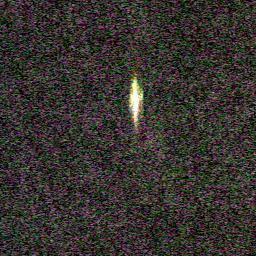Ship: (127, 79, 146, 119)
